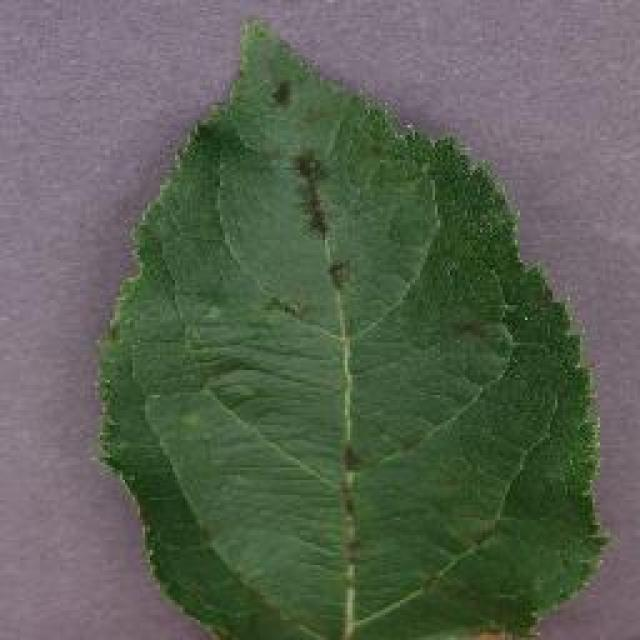apple scab disease: (92, 12, 610, 638)
